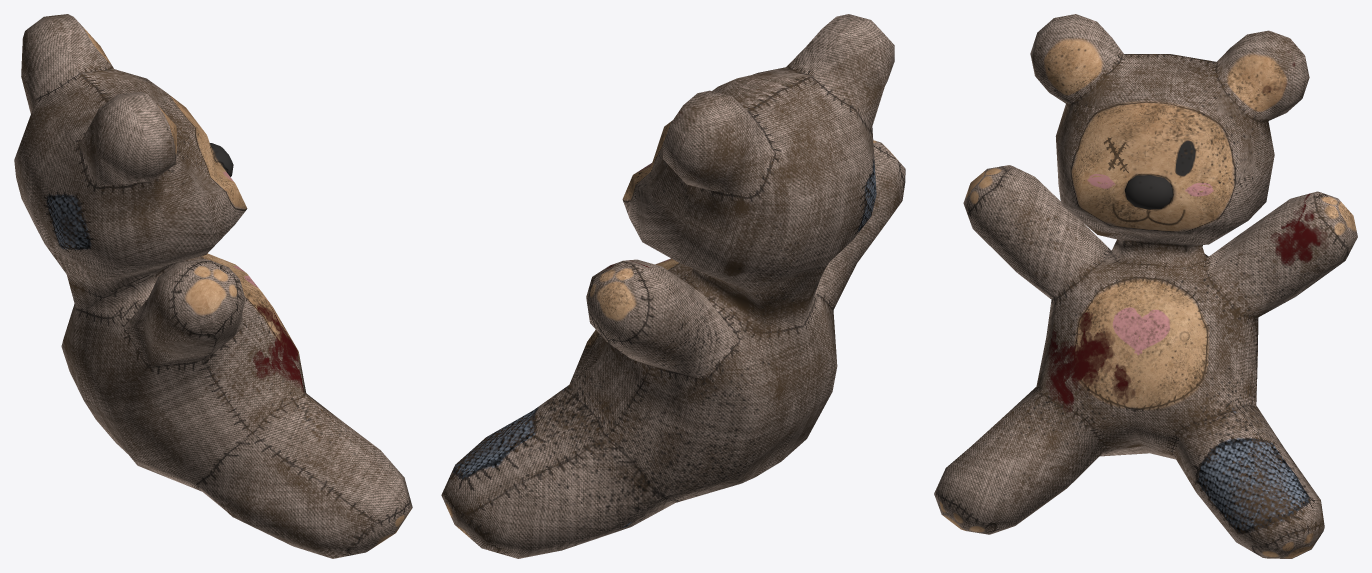
Rendered from HIP_TEDDY_BEAR.fbx.
The picture shows the model from 3 angles, left to right: view 1: azimuth 30°, elevation 25°; view 2: azimuth 150°, elevation 25°; view 3: azimuth 270°, elevation 25°; orthographic projection. The views are drawn at different scales.
Parts seen in each view (by area): view 1: HIP_TEDDY_BEAR; view 2: HIP_TEDDY_BEAR; view 3: HIP_TEDDY_BEAR.
Part boxes in pixels (<box>): HIP_TEDDY_BEAR: <box>14,14,412,558</box>; HIP_TEDDY_BEAR: <box>441,14,905,558</box>; HIP_TEDDY_BEAR: <box>934,14,1357,558</box>.
Bounding box in the file's own units: 0.0174 × 0.0242 × 0.0212.
